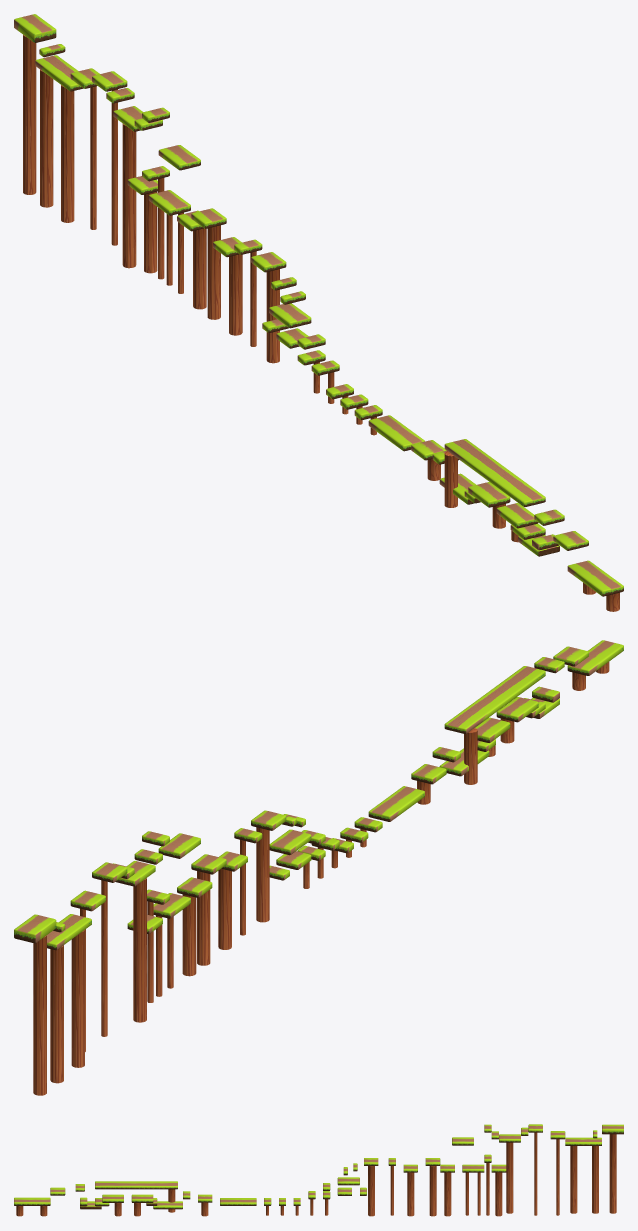
The model's file is Faze1_final.fbx.
The picture shows the model from 3 angles, top to bottom: view 1: azimuth 30°, elevation 25°; view 2: azimuth 150°, elevation 25°; view 3: azimuth 270°, elevation 25°; orthographic projection. The views are drawn at different scales.
Parts seen in each view (by area): view 1: Ground.011, colunas.026, colunas.021, colunas.024, colunas.025, colunas.015, colunas.014, colunas.016, Ground.013, colunas.020, Ground.015, colunas.023 (+4 smaller); view 2: Ground.011, colunas.026, colunas.021, colunas.025, colunas.024, colunas.012, colunas.014, colunas.015, colunas.016, Ground.015, colunas.022, Ground.013 (+6 smaller); view 3: Ground.011, colunas.026, colunas.021, colunas.024, colunas.025, colunas.015, colunas.012, colunas.014, colunas.016, colunas.020, colunas.022, Ground.013 (+15 smaller).
Boxes of the visible parts, left/top/right/bottom form: Ground.011: left=444, top=439, right=545, bottom=506; colunas.026: left=23, top=35, right=36, bottom=194; colunas.021: left=122, top=123, right=136, bottom=268; colunas.024: left=61, top=85, right=74, bottom=222; colunas.025: left=40, top=69, right=53, bottom=207; colunas.015: left=207, top=225, right=220, bottom=319; colunas.014: left=229, top=254, right=242, bottom=335; colunas.016: left=193, top=228, right=206, bottom=309; Ground.013: left=567, top=560, right=623, bottom=596; colunas.020: left=144, top=191, right=157, bottom=273; Ground.015: left=368, top=415, right=424, bottom=451; colunas.023: left=90, top=86, right=96, bottom=229; Ground.011: left=444, top=666, right=545, bottom=733; colunas.026: left=33, top=935, right=46, bottom=1095; colunas.021: left=133, top=878, right=146, bottom=1022; colunas.025: left=50, top=945, right=63, bottom=1083; colunas.024: left=71, top=930, right=84, bottom=1067; colunas.012: left=256, top=827, right=269, bottom=922; colunas.014: left=218, top=868, right=231, bottom=949; colunas.015: left=197, top=871, right=210, bottom=965; colunas.016: left=182, top=894, right=196, bottom=976; Ground.015: left=368, top=786, right=424, bottom=821; colunas.022: left=101, top=880, right=107, bottom=1036; Ground.013: left=567, top=640, right=623, bottom=675; Ground.011: left=95, top=1181, right=177, bottom=1189; colunas.026: left=609, top=1134, right=616, bottom=1213; colunas.021: left=506, top=1142, right=513, bottom=1213; colunas.024: left=570, top=1146, right=577, bottom=1213; colunas.025: left=592, top=1146, right=598, bottom=1213; colunas.015: left=429, top=1166, right=436, bottom=1216; colunas.012: left=368, top=1166, right=374, bottom=1216; colunas.014: left=407, top=1172, right=414, bottom=1216; colunas.016: left=444, top=1172, right=451, bottom=1216; colunas.020: left=495, top=1172, right=502, bottom=1216; colunas.022: left=534, top=1132, right=537, bottom=1215; Ground.013: left=14, top=1197, right=50, bottom=1205.
Bounding box in the file's own units: 981 × 5855 × 37330.
